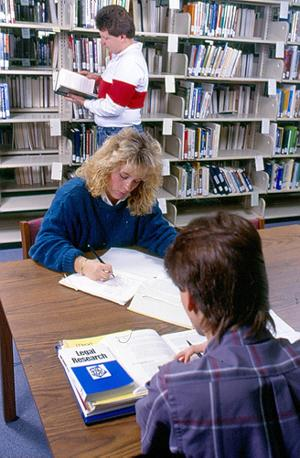person: (30, 127, 181, 286)
